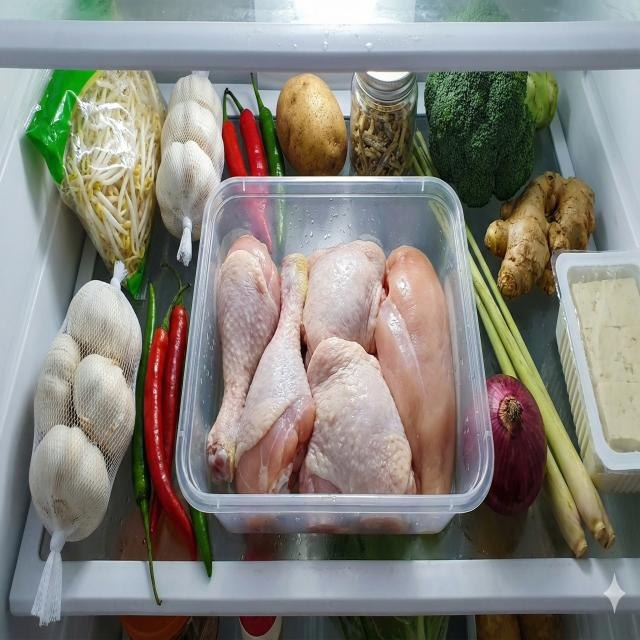anchovies: (349, 108, 415, 176)
bean_sprouts: (60, 68, 169, 280)
brocolli: (424, 72, 558, 209)
chicken: (207, 233, 456, 496)
chili: (132, 260, 212, 606), (223, 70, 287, 254)
garlic: (28, 280, 142, 543), (156, 76, 225, 242)
ginger: (484, 170, 596, 303)
lemongrass: (412, 128, 617, 559)
onion: (463, 373, 548, 516)
potato: (276, 71, 348, 177)
tofu: (572, 274, 640, 452)
